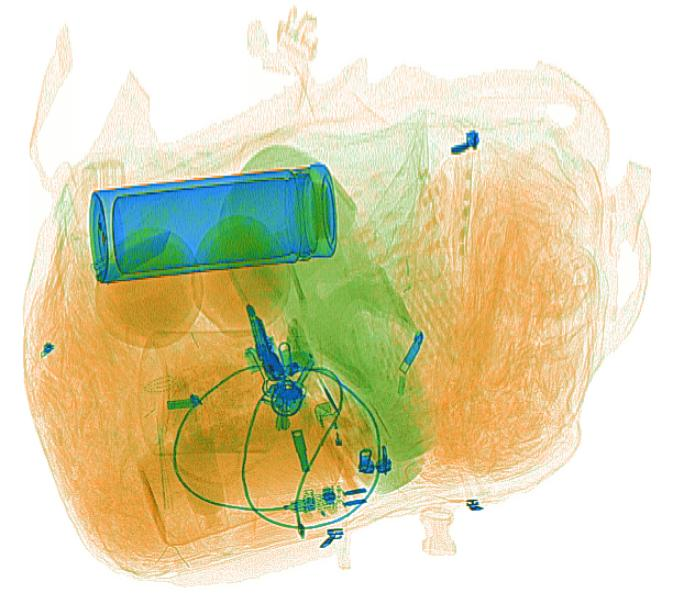knife: (96, 228, 173, 285)
lighter: (312, 400, 356, 482)
